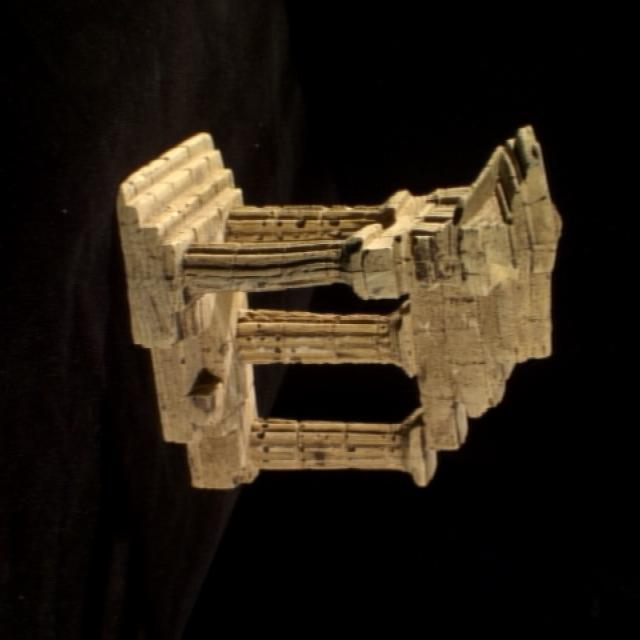Instance-Segmentation: (117, 127, 560, 488)
